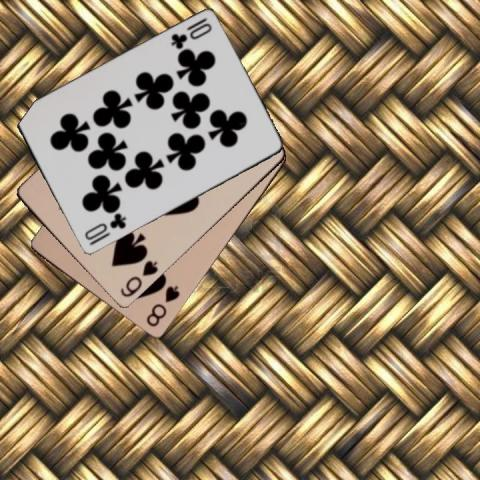10c: (82, 210, 128, 247), (168, 16, 214, 52)
6s: (117, 258, 160, 300)
8s: (144, 283, 182, 329)
